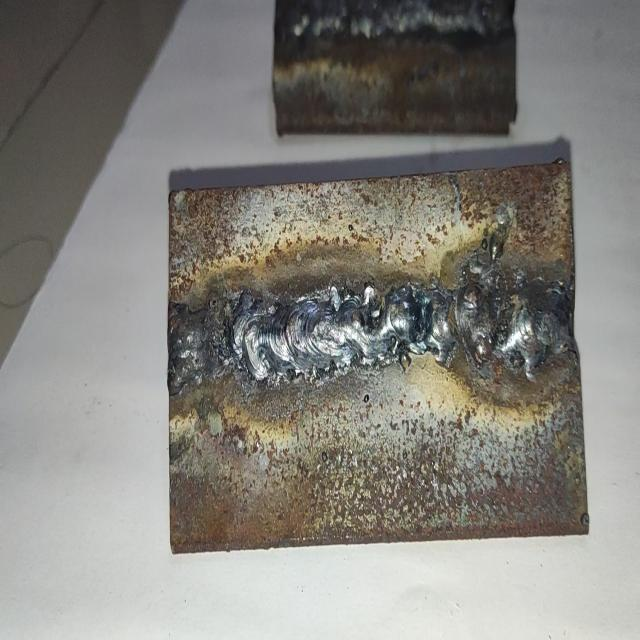Defect: (373, 272, 574, 370), (170, 284, 264, 388)
Welding Line: (172, 282, 576, 378), (279, 2, 515, 38)
Workpiece: (168, 154, 596, 549), (272, 0, 518, 144)
